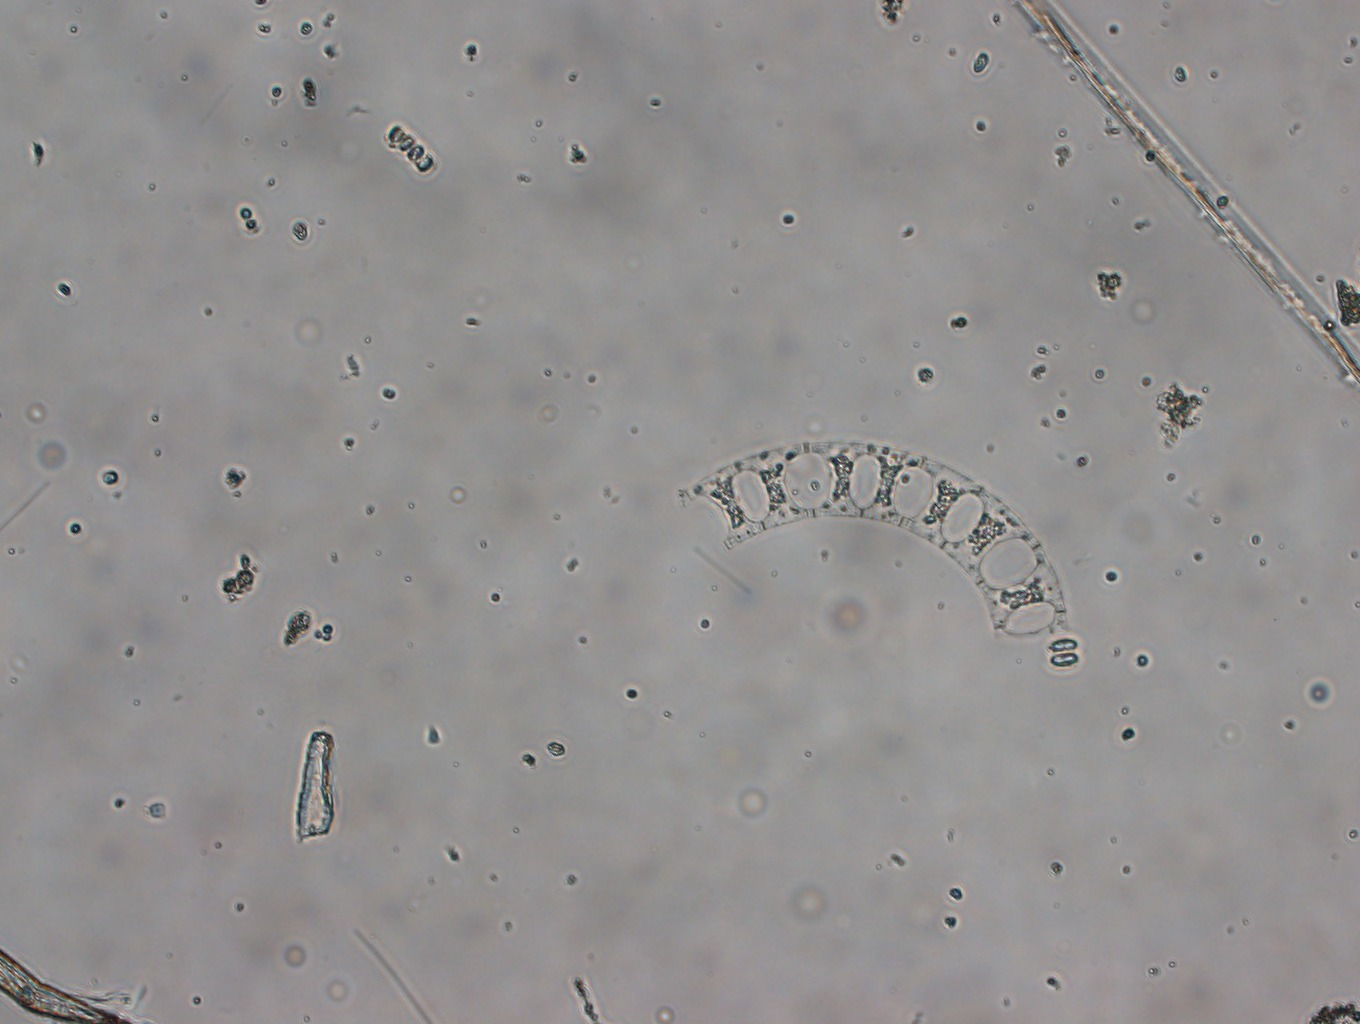eucampia: (691, 439, 1069, 639)
